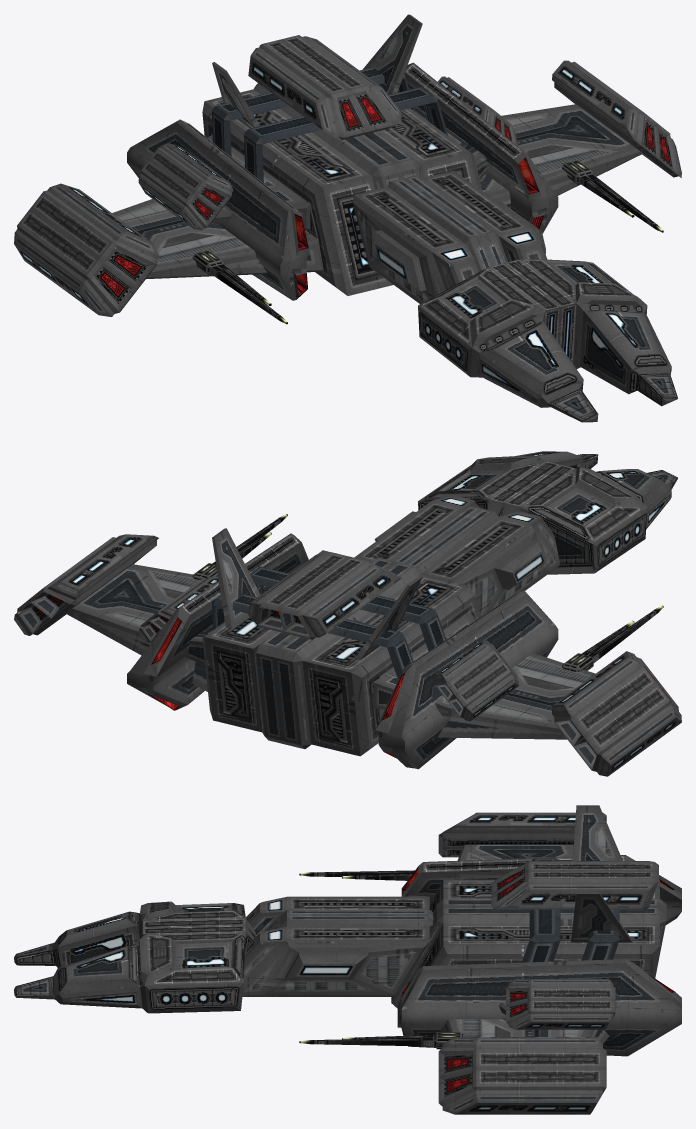
The model's file is zarykorStarship01.FBX.
The picture shows the model from 3 angles, top to bottom: view 1: azimuth 30°, elevation 25°; view 2: azimuth 150°, elevation 25°; view 3: azimuth 270°, elevation 25°; orthographic projection. The views are drawn at different scales.
Parts seen in each view (by area): view 1: ZarykorStarship01; view 2: ZarykorStarship01; view 3: ZarykorStarship01.
Boxes of the visible parts, box(x1,y1,x2,y2) form: ZarykorStarship01: box(14, 14, 681, 422); ZarykorStarship01: box(14, 451, 681, 776); ZarykorStarship01: box(14, 805, 681, 1114).
Bounding box in the file's own units: 2.43 × 2.58 × 0.6867.
